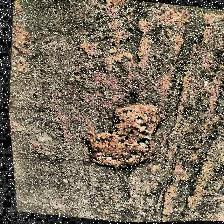pothole: (74, 97, 166, 179)
